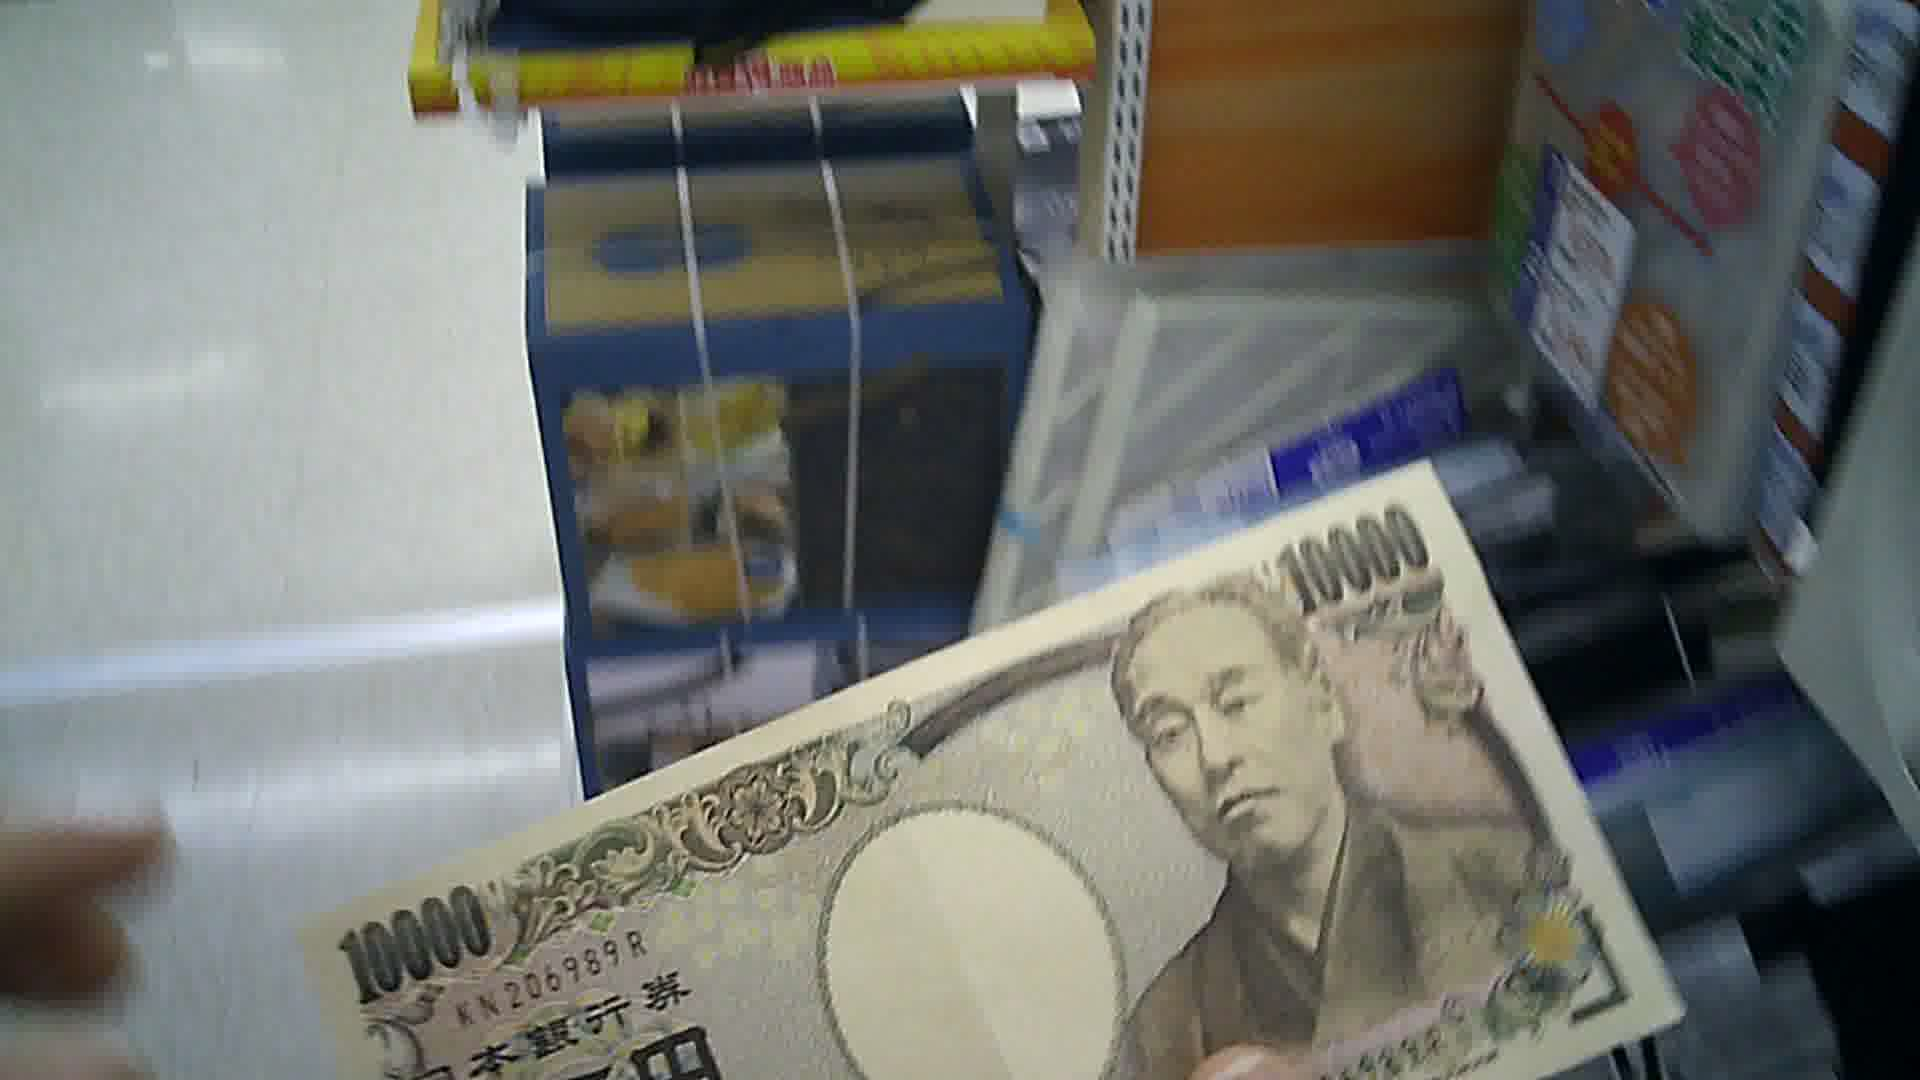10,000 Yen: (324, 489, 1729, 1079)
